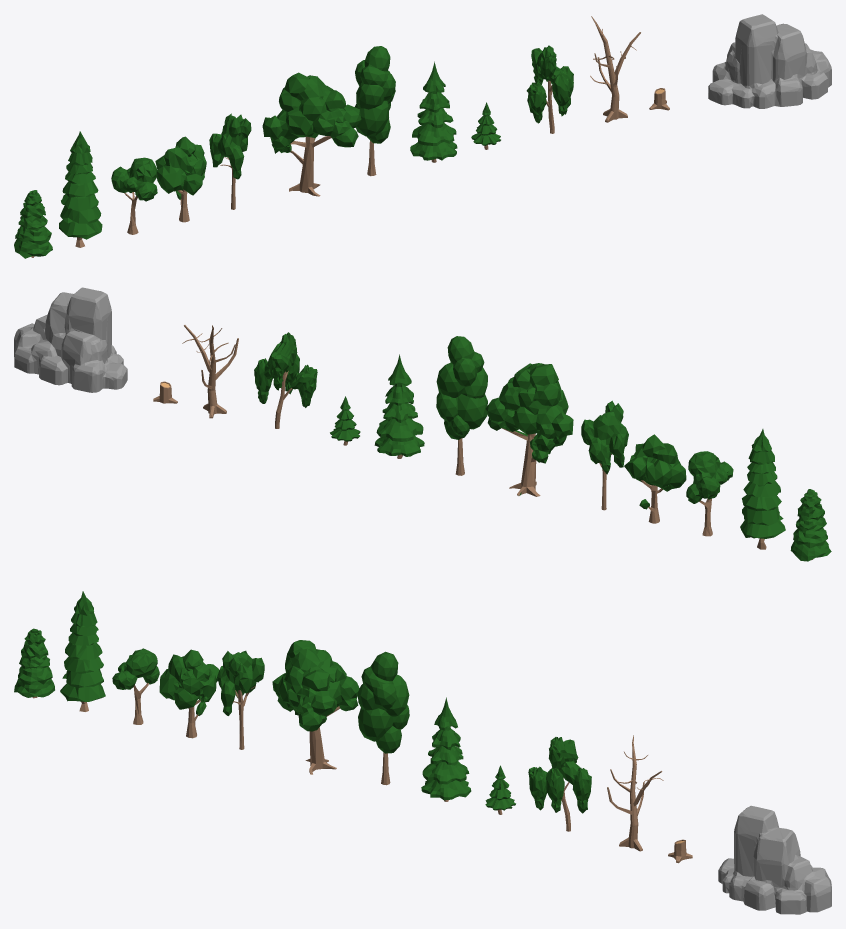
The model's file is Arboles.fbx.
3 views of the same model, one above another, from view 1: azimuth 30°, elevation 25°; view 2: azimuth 150°, elevation 25°; view 3: azimuth 330°, elevation 25° (orthographic). The views are drawn at different scales.
Parts seen in each view (by area): view 1: Rock_1_, _6_tree, _7_tree, _2_tree, _8_tree, _4_tree, _10_tree, _5_tree, _1_tree, _3_tree, _11_tree, _9_tree; view 2: Rock_1_, _6_tree, _7_tree, _2_tree, _8_tree, _10_tree, _4_tree, _5_tree, _3_tree, _1_tree, _11_tree, _9_tree; view 3: Rock_1_, _6_tree, _7_tree, _2_tree, _10_tree, _8_tree, _4_tree, _5_tree, _1_tree, _3_tree, _11_tree, _9_tree.
Part boxes in pixels (bbox=[...]): Rock_1_: bbox=[708, 14, 831, 108]; _6_tree: bbox=[262, 72, 361, 196]; _7_tree: bbox=[355, 46, 395, 176]; _2_tree: bbox=[59, 131, 102, 247]; _8_tree: bbox=[410, 61, 457, 162]; _4_tree: bbox=[155, 136, 206, 222]; _10_tree: bbox=[526, 45, 573, 133]; _5_tree: bbox=[209, 113, 251, 209]; _1_tree: bbox=[14, 190, 52, 258]; _3_tree: bbox=[111, 157, 157, 234]; _11_tree: bbox=[590, 16, 640, 122]; _9_tree: bbox=[471, 102, 500, 149]; Rock_1_: bbox=[14, 287, 127, 392]; _6_tree: bbox=[485, 363, 573, 496]; _7_tree: bbox=[436, 336, 487, 475]; _2_tree: bbox=[740, 429, 785, 549]; _8_tree: bbox=[374, 354, 424, 458]; _10_tree: bbox=[254, 332, 317, 428]; _4_tree: bbox=[624, 434, 686, 523]; _5_tree: bbox=[581, 400, 628, 510]; _3_tree: bbox=[686, 451, 733, 536]; _1_tree: bbox=[790, 489, 831, 561]; _11_tree: bbox=[182, 325, 238, 418]; _9_tree: bbox=[330, 396, 360, 445]; Rock_1_: bbox=[718, 805, 831, 914]; _6_tree: bbox=[272, 640, 359, 774]; _7_tree: bbox=[358, 651, 409, 785]; _2_tree: bbox=[60, 591, 105, 711]; _10_tree: bbox=[528, 737, 591, 831]; _8_tree: bbox=[421, 697, 471, 801]; _4_tree: bbox=[159, 649, 219, 738]; _5_tree: bbox=[217, 650, 264, 749]; _1_tree: bbox=[14, 628, 54, 698]; _3_tree: bbox=[112, 648, 159, 724]; _11_tree: bbox=[607, 735, 663, 851]; _9_tree: bbox=[485, 765, 515, 814].
Bounding box in the file's own units: 1798 × 282 × 179.
